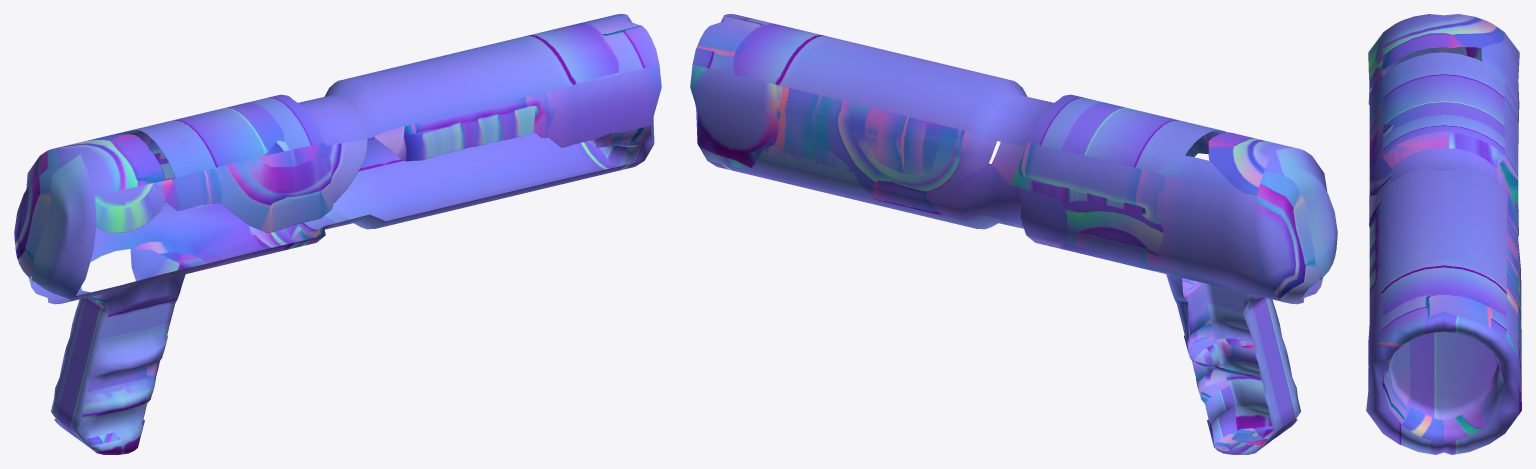
File: laserPowerup.fbx
3 renders of one model, left to right at view 1: azimuth 30°, elevation 25°; view 2: azimuth 150°, elevation 25°; view 3: azimuth 270°, elevation 25°, orthographic. The views are drawn at different scales.
Parts seen in each view (by area): view 1: Object_2; view 2: Object_2; view 3: Object_2.
Part boxes in pixels (<box>): Object_2: <box>14,14,661,454</box>; Object_2: <box>690,14,1337,454</box>; Object_2: <box>1366,14,1521,454</box>.
Bounding box in the file's own units: 142 × 28.75 × 67.59.
Materials: 1 (1 with a texture image).
